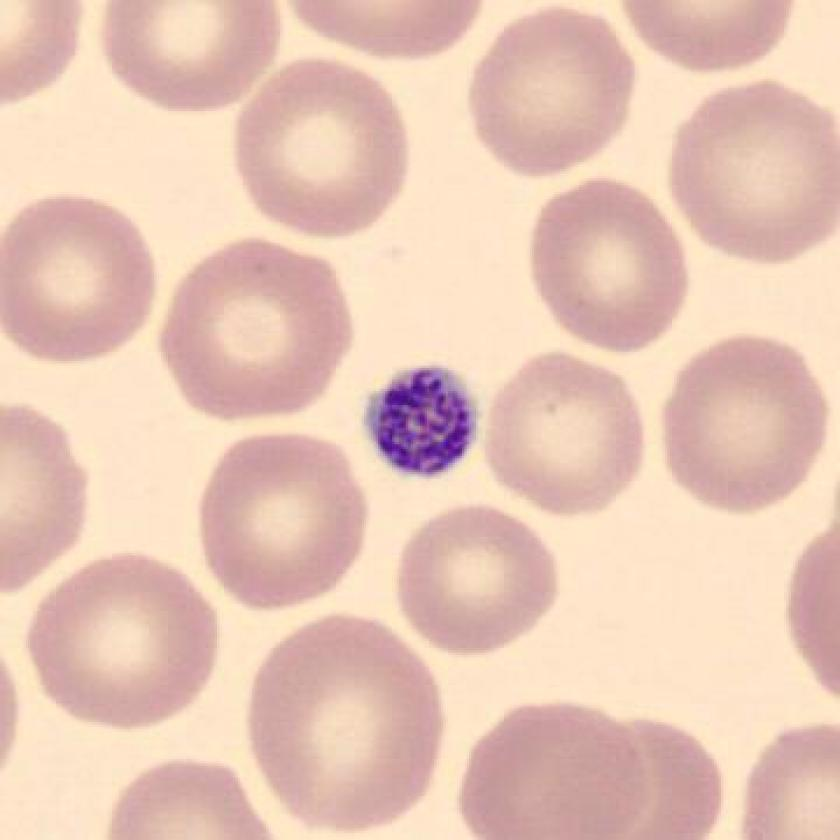platelets: (356, 350, 489, 494)
